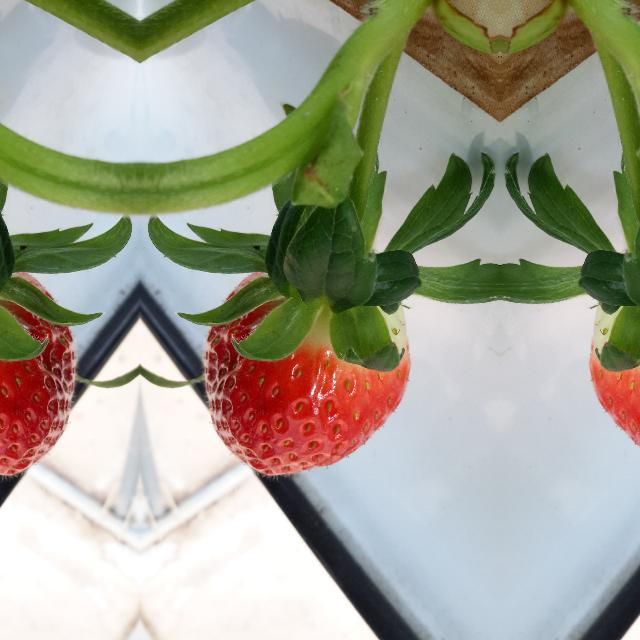Health_100: (202, 272, 412, 476), (0, 271, 78, 476), (588, 271, 640, 476)
